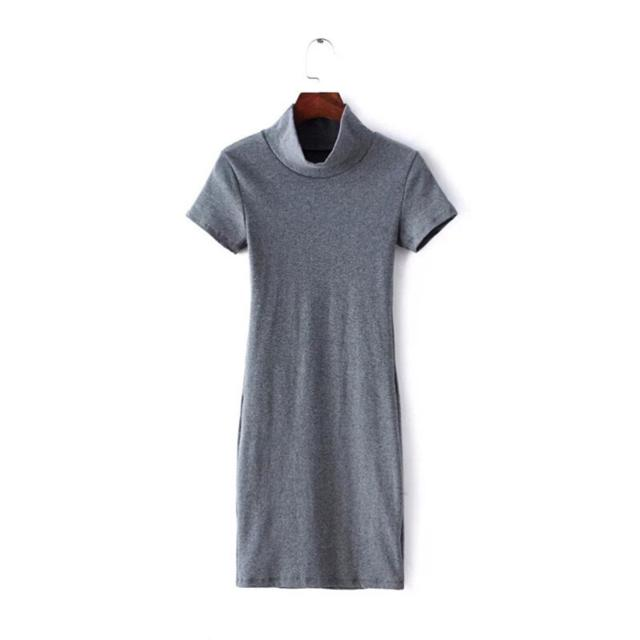Dresses: (184, 98, 458, 591)
